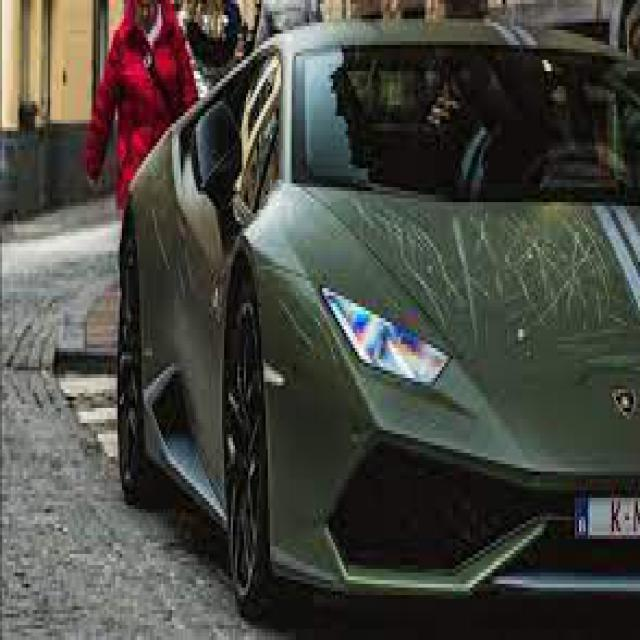bonnet-dent: (285, 172, 638, 452)
